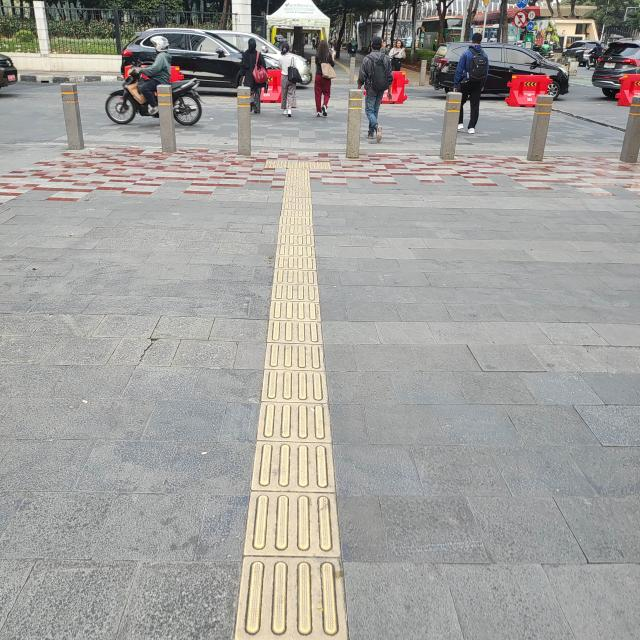lurus: (253, 177, 334, 640)
